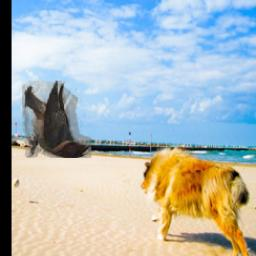Swallow: (22, 82, 91, 159)
